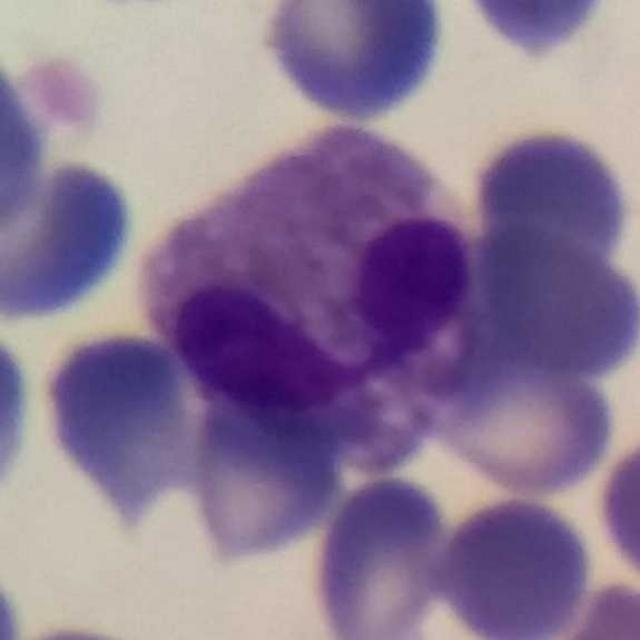Eosinophil: (134, 124, 475, 425)
Lymphocyte: (448, 0, 624, 66)
Platelets: (24, 53, 106, 134)
RBC: (459, 117, 640, 304), (38, 329, 196, 530), (432, 347, 621, 499), (466, 212, 638, 372), (182, 393, 341, 563), (0, 145, 146, 328), (250, 0, 456, 128), (305, 471, 459, 640), (428, 489, 599, 640), (451, 1, 622, 65), (0, 39, 51, 248), (0, 310, 40, 526), (592, 429, 640, 591), (552, 575, 640, 640), (2, 623, 139, 640)
